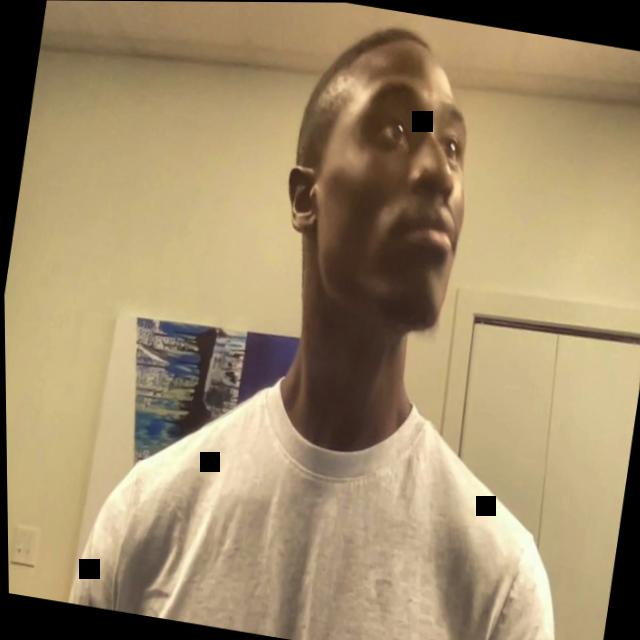NO-Mask: (286, 43, 488, 338)
